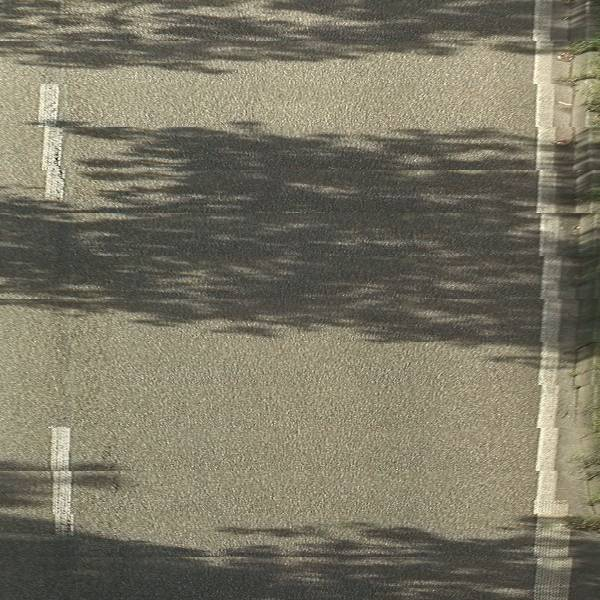road_damage: (101, 441, 126, 508)
